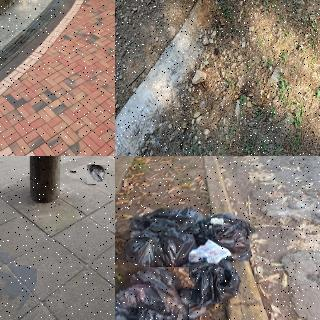Garbage: (115, 263, 192, 320), (126, 224, 198, 271), (203, 214, 255, 263), (86, 164, 108, 185)
